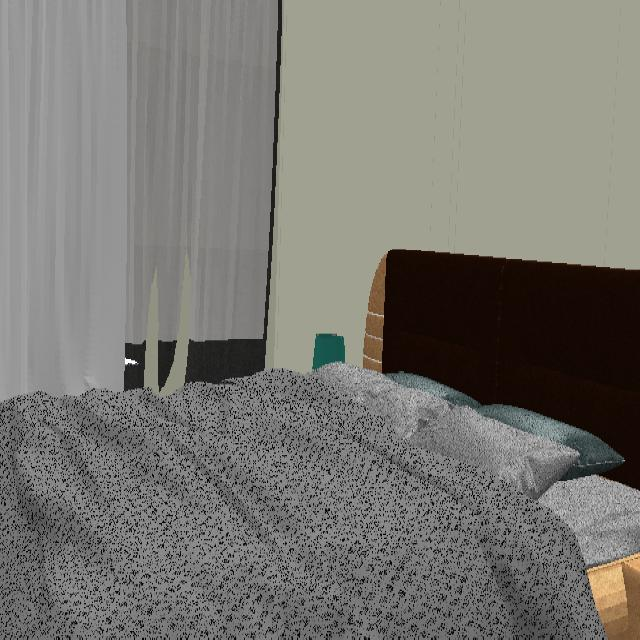bed: (0, 250, 640, 639)
lamp: (311, 335, 346, 373)
pillow: (385, 372, 625, 481)
